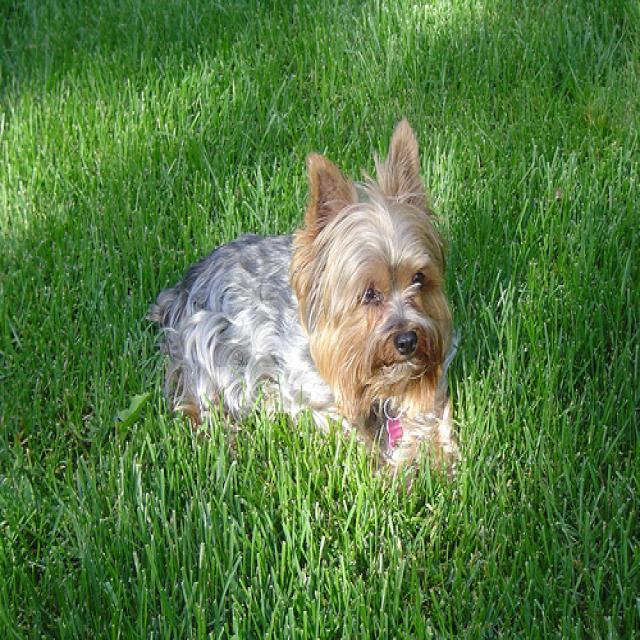dog-yorkshire_terrier: (141, 108, 472, 503)
